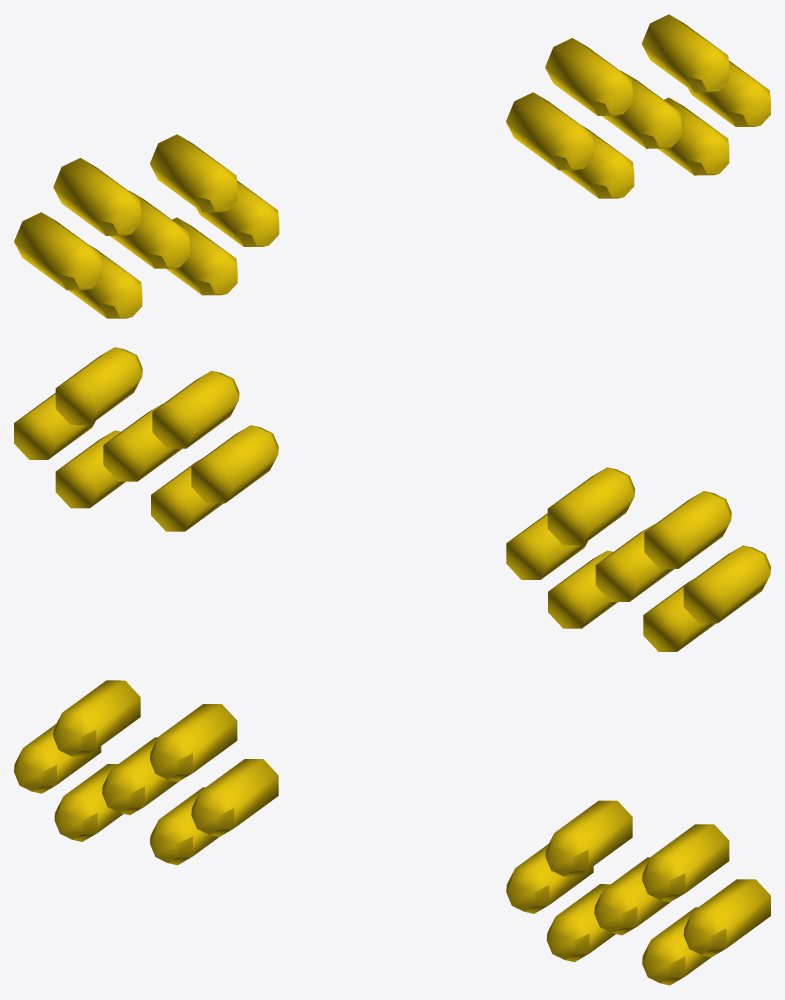
The model's file is Rockets.fbx.
The picture shows the model from 3 angles, top to bottom: view 1: azimuth 30°, elevation 25°; view 2: azimuth 150°, elevation 25°; view 3: azimuth 330°, elevation 25°; orthographic projection.
Visible parts, largest first — view 1: Rockets13, Rockets6, Rockets7, Rockets1, Rockets8, Rockets, Rockets3, Rockets9, Rockets11, Rockets4, Rockets5, Rockets12 (+2 smaller); view 2: Rockets6, Rockets7, Rockets1, Rockets13, Rockets, Rockets8, Rockets9, Rockets3, Rockets11, Rockets4, Rockets5, Rockets12 (+2 smaller); view 3: Rockets, Rockets6, Rockets13, Rockets8, Rockets5, Rockets12, Rockets9, Rockets3, Rockets2, Rockets10, Rockets1, Rockets7 (+2 smaller).
Boxes of the visible parts, box(x1,y1,x2,y2) form: Rockets13: box(641, 14, 729, 92); Rockets6: box(150, 134, 237, 212); Rockets7: box(506, 92, 593, 170); Rockets1: box(14, 212, 101, 290); Rockets8: box(545, 38, 632, 115); Rockets: box(53, 158, 140, 235); Rockets3: box(110, 190, 189, 268); Rockets9: box(602, 71, 681, 148); Rockets11: box(658, 97, 729, 175); Rockets4: box(166, 217, 237, 295); Rockets5: box(196, 180, 279, 246); Rockets12: box(688, 60, 770, 126); Rockets6: box(547, 467, 634, 545); Rockets7: box(191, 425, 278, 503); Rockets1: box(683, 545, 770, 623); Rockets13: box(55, 347, 142, 425); Rockets: box(644, 491, 731, 568); Rockets8: box(152, 370, 239, 448); Rockets9: box(103, 403, 181, 481); Rockets3: box(595, 524, 673, 601); Rockets11: box(55, 430, 125, 508); Rockets4: box(548, 550, 617, 628); Rockets5: box(506, 513, 587, 579); Rockets12: box(14, 393, 95, 459); Rockets: box(53, 680, 140, 758); Rockets6: box(150, 704, 237, 781); Rockets13: box(642, 824, 729, 902); Rockets8: box(545, 800, 632, 878); Rockets5: box(191, 759, 278, 836); Rockets12: box(683, 879, 770, 957); Rockets9: box(594, 857, 670, 935); Rockets3: box(102, 737, 179, 815); Rockets2: box(54, 764, 122, 841); Rockets10: box(546, 884, 615, 962); Rockets1: box(14, 724, 101, 793); Rockets7: box(506, 844, 593, 913).
Bounding box in the file's own units: 105 × 18.14 × 13.39.
